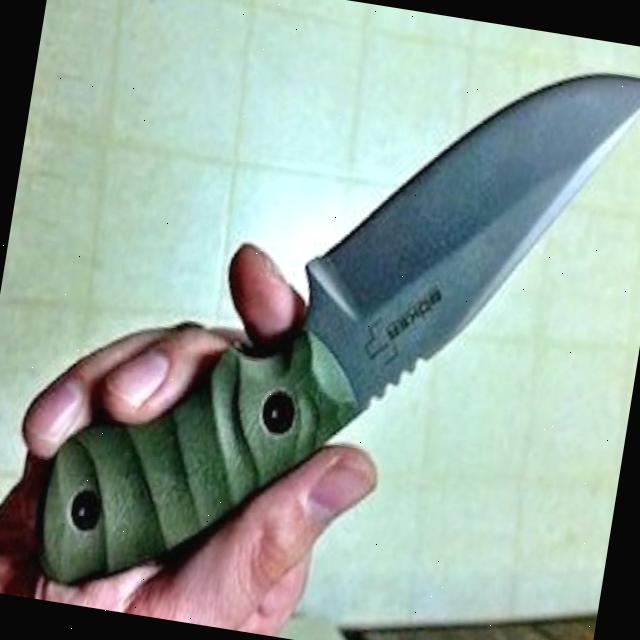suspicion: (0, 0, 640, 640), (20, 0, 640, 640)
